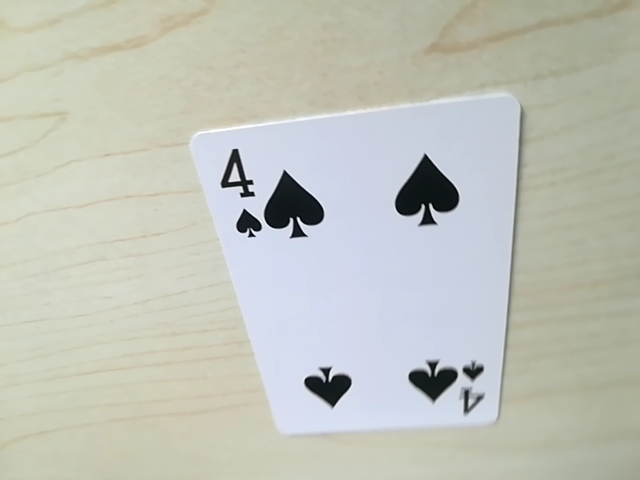ht 4: (213, 138, 271, 247), (450, 354, 491, 423)
